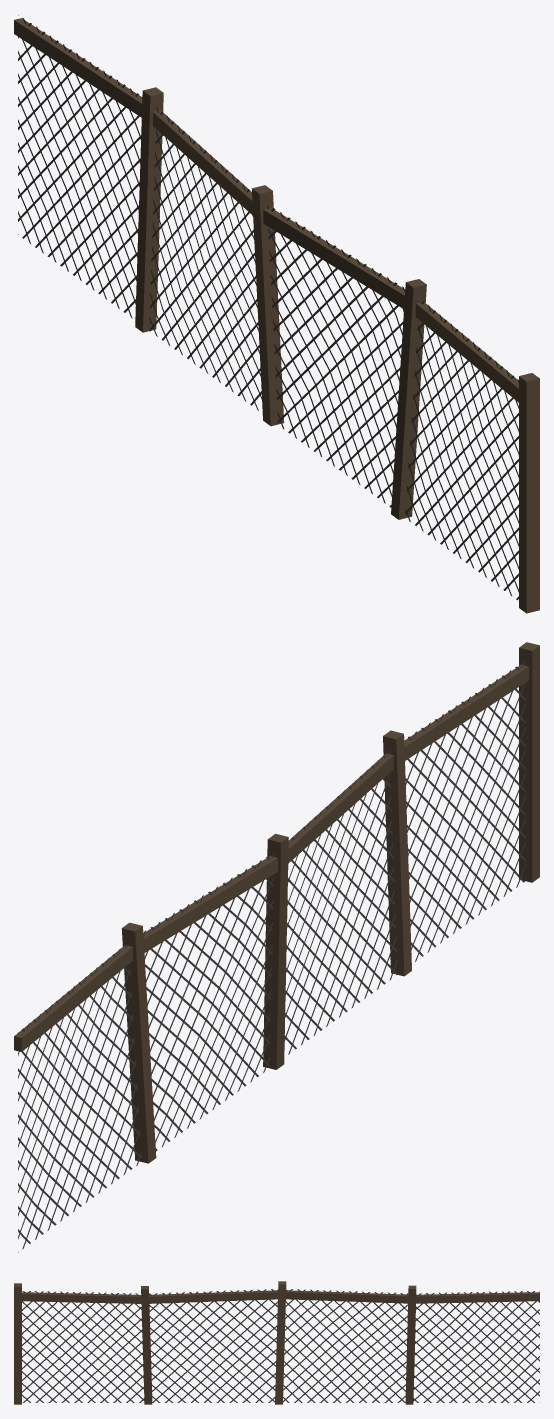
The model's file is SM_fence_103a.gltf.
3 views of the same model, one above another, from view 1: azimuth 30°, elevation 25°; view 2: azimuth 150°, elevation 25°; view 3: azimuth 270°, elevation 25° (orthographic). The views are drawn at different scales.
Visible parts, largest first — view 1: SM_fence_103a; view 2: SM_fence_103a; view 3: SM_fence_103a.
Part boxes in pixels (left/top/right/bottom): SM_fence_103a: left=14, top=15, right=539, bottom=613; SM_fence_103a: left=14, top=642, right=539, bottom=1252; SM_fence_103a: left=14, top=1281, right=539, bottom=1404.
Size of the model in its own units: 0.148 by 1 by 4.03.
Materials: 2 (2 with a texture image).
